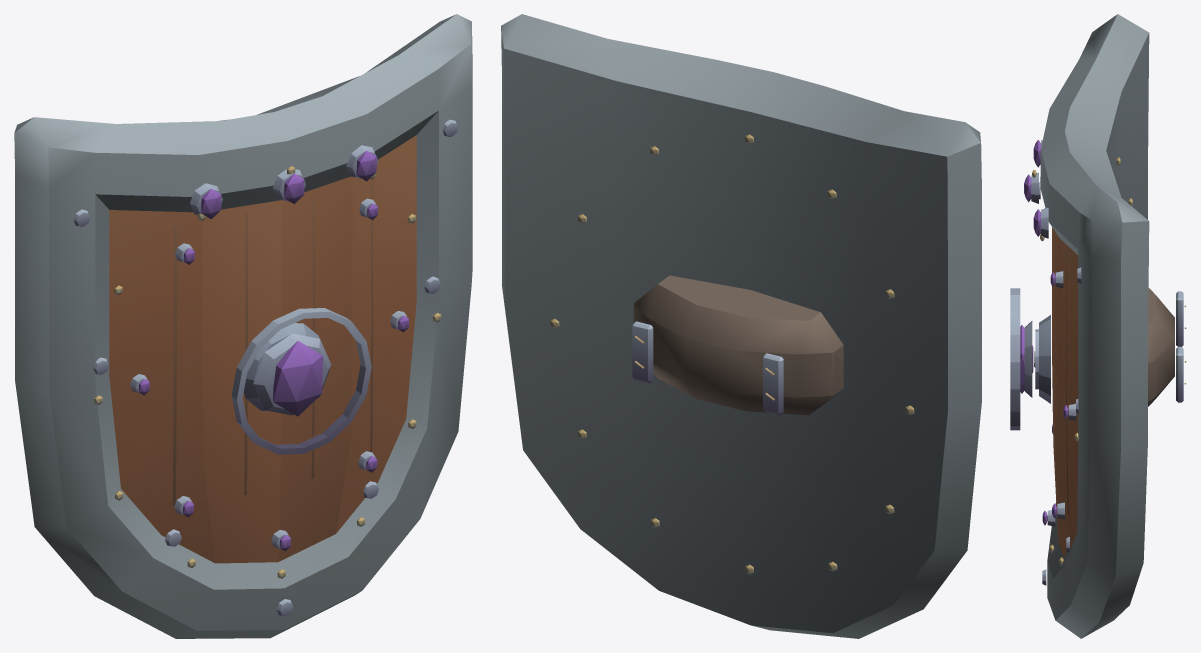
File: escudo_runico_t3.glb
3 renders of one model, left to right at view 1: azimuth 30°, elevation 25°; view 2: azimuth 150°, elevation 25°; view 3: azimuth 270°, elevation 25°, orthographic. The views are drawn at different scales.
Parts seen in each view (by area): view 1: escudo_runico_t3_finished; view 2: escudo_runico_t3_finished; view 3: escudo_runico_t3_finished.
Boxes of the visible parts, left/top/right/bottom form: escudo_runico_t3_finished: left=14, top=14, right=472, bottom=638; escudo_runico_t3_finished: left=501, top=14, right=981, bottom=638; escudo_runico_t3_finished: left=1010, top=14, right=1186, bottom=638.
Bounding box in the file's own units: 0.8826 × 1.02 × 0.3217.
Materials: 2 (2 with a texture image).
